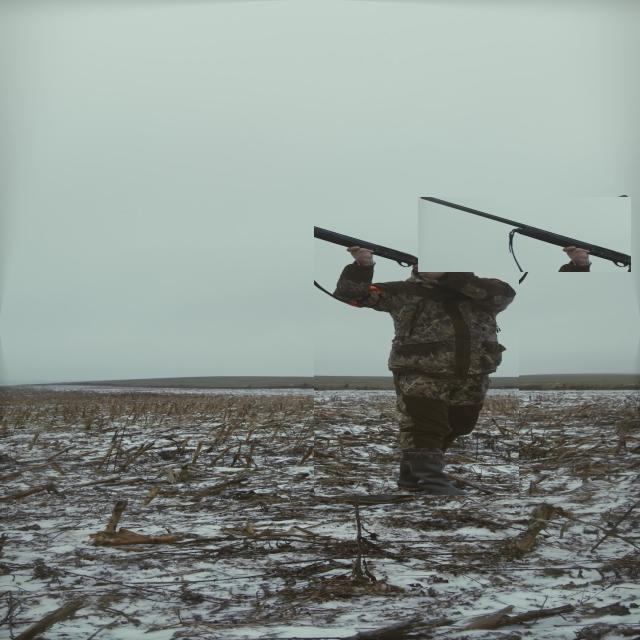poacher: (314, 219, 519, 495)
weapon: (418, 197, 631, 272)
